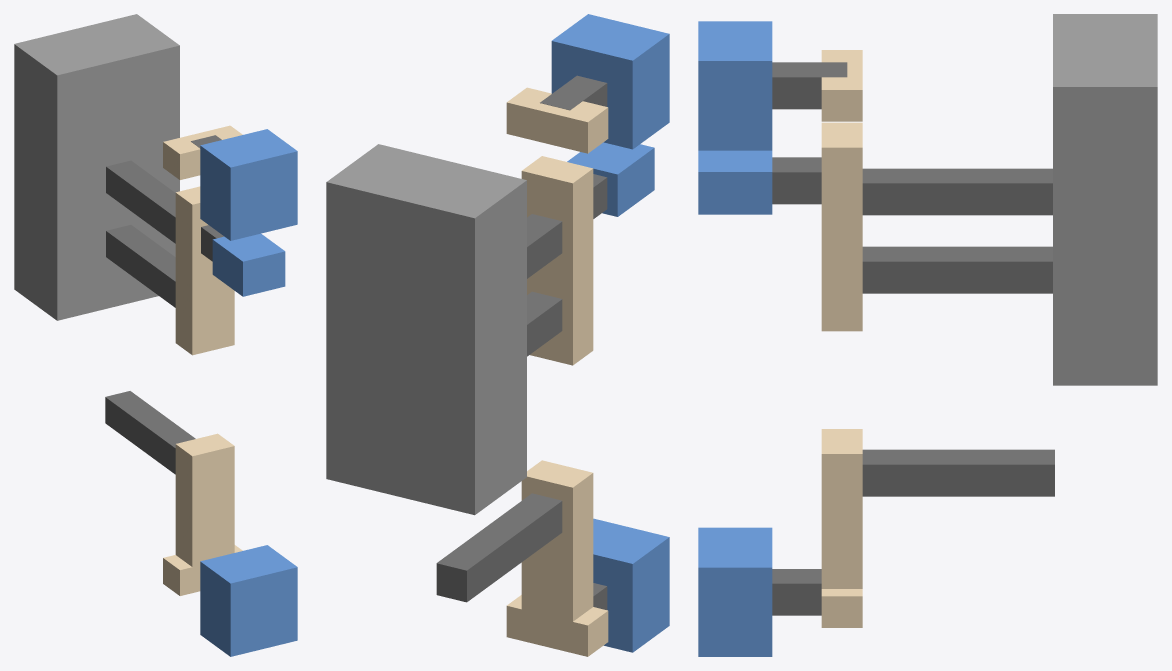
Rendered from sky130_fd_sc_hd__tapvgnd_1.gds.gltf.
3 renders of one model, left to right at view 1: azimuth 30°, elevation 25°; view 2: azimuth 150°, elevation 25°; view 3: azimuth 270°, elevation 25°, orthographic. The views are drawn at different scales.
Visible parts, largest first — view 1: sky130_fd_sc_hd__tapvgnd_1_nwell, sky130_fd_sc_hd__tapvgnd_1_met1, sky130_fd_sc_hd__tapvgnd_1_li1, sky130_fd_sc_hd__tapvgnd_1_licon, sky130_fd_sc_hd__tapvgnd_1_mcon; view 2: sky130_fd_sc_hd__tapvgnd_1_nwell, sky130_fd_sc_hd__tapvgnd_1_li1, sky130_fd_sc_hd__tapvgnd_1_met1, sky130_fd_sc_hd__tapvgnd_1_licon, sky130_fd_sc_hd__tapvgnd_1_mcon; view 3: sky130_fd_sc_hd__tapvgnd_1_nwell, sky130_fd_sc_hd__tapvgnd_1_licon, sky130_fd_sc_hd__tapvgnd_1_met1, sky130_fd_sc_hd__tapvgnd_1_li1, sky130_fd_sc_hd__tapvgnd_1_mcon.
Boxes of the visible parts, x1,y1,x2,y2 form: sky130_fd_sc_hd__tapvgnd_1_nwell: (14, 14, 179, 320); sky130_fd_sc_hd__tapvgnd_1_met1: (200, 129, 297, 656); sky130_fd_sc_hd__tapvgnd_1_li1: (163, 125, 242, 595); sky130_fd_sc_hd__tapvgnd_1_licon: (105, 160, 195, 474); sky130_fd_sc_hd__tapvgnd_1_mcon: (191, 135, 223, 261); sky130_fd_sc_hd__tapvgnd_1_nwell: (326, 144, 526, 515); sky130_fd_sc_hd__tapvgnd_1_li1: (506, 87, 608, 656); sky130_fd_sc_hd__tapvgnd_1_met1: (551, 14, 669, 652); sky130_fd_sc_hd__tapvgnd_1_licon: (436, 214, 562, 602); sky130_fd_sc_hd__tapvgnd_1_mcon: (540, 75, 607, 609); sky130_fd_sc_hd__tapvgnd_1_nwell: (1053, 14, 1157, 385); sky130_fd_sc_hd__tapvgnd_1_licon: (862, 168, 1054, 496); sky130_fd_sc_hd__tapvgnd_1_met1: (698, 21, 772, 656); sky130_fd_sc_hd__tapvgnd_1_li1: (821, 50, 862, 627); sky130_fd_sc_hd__tapvgnd_1_mcon: (772, 62, 847, 615).
Size of the model in its own units: 0.84 by 3.2 by 2.24.
